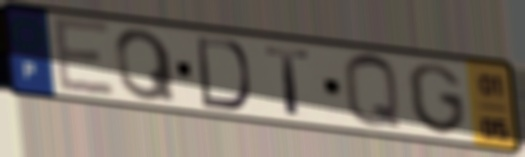D: (193, 33, 253, 113)
E: (49, 14, 119, 99)
G: (404, 61, 469, 138)
Q: (340, 51, 406, 133), (112, 27, 180, 105)
T: (262, 44, 314, 119)
